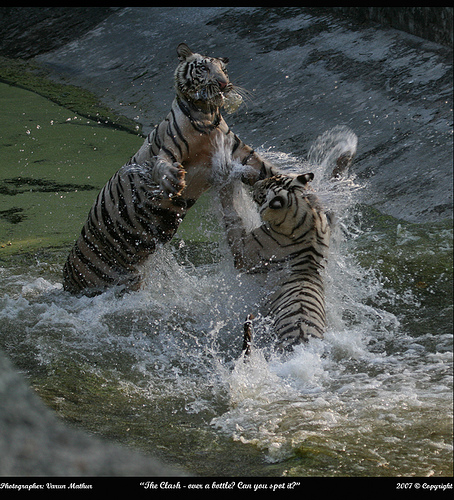Tigre: (76, 53, 238, 288), (247, 180, 346, 370)
